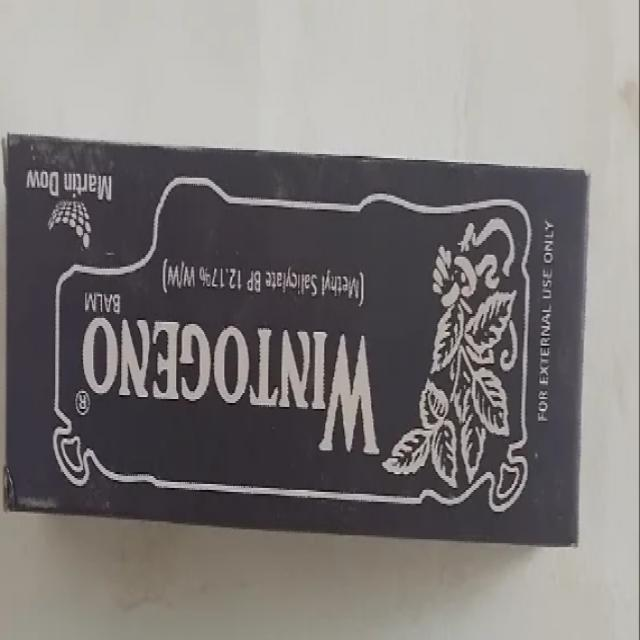drug-name: (81, 314, 383, 450)
